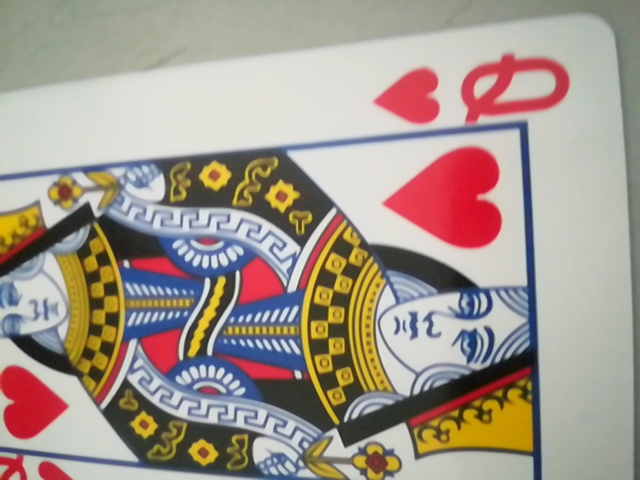hx q: (375, 49, 572, 131)
